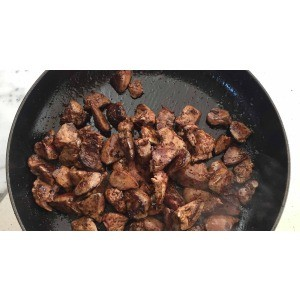liver_brain food: (59, 113, 205, 212)
